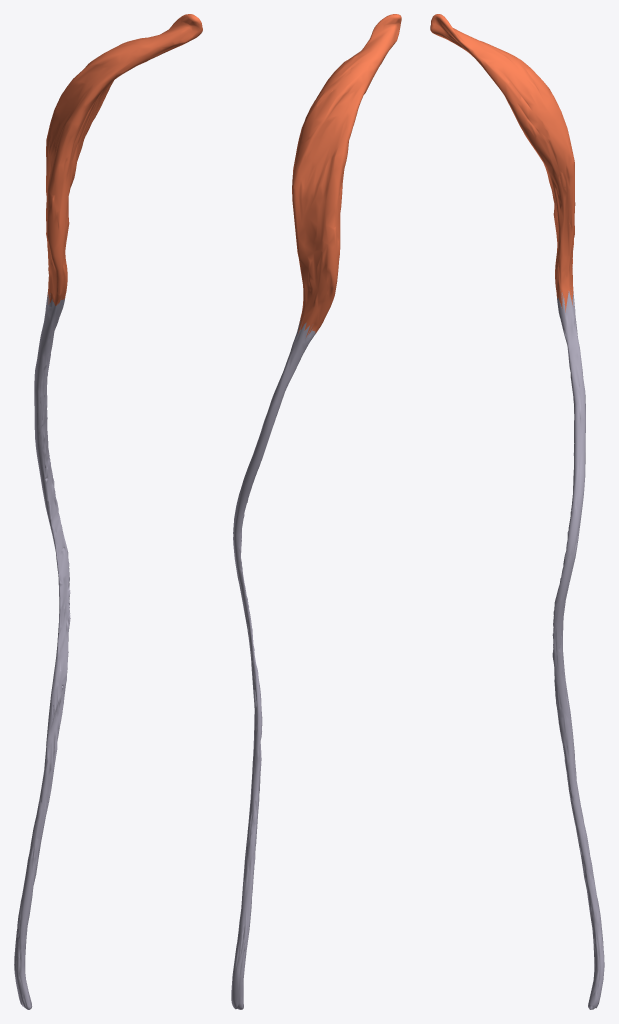
File: Plantaris_muscle.r_Generated_Mesh_From_X3D.294.glb
The picture shows the model from 3 angles, left to right: view 1: azimuth 90°, elevation 25°; view 2: azimuth 150°, elevation 25°; view 3: azimuth 270°, elevation 25°; orthographic projection. The views are drawn at different scales.
Visible parts, largest first — view 1: Plantaris_muscle.r_Generated_Mesh_From_X3D.294; view 2: Plantaris_muscle.r_Generated_Mesh_From_X3D.294; view 3: Plantaris_muscle.r_Generated_Mesh_From_X3D.294.
Part boxes in pixels (x1,y1,x2,y2): Plantaris_muscle.r_Generated_Mesh_From_X3D.294: (14,14,202,1009); Plantaris_muscle.r_Generated_Mesh_From_X3D.294: (231,14,401,1009); Plantaris_muscle.r_Generated_Mesh_From_X3D.294: (430,14,604,1009).
Bounding box in the file's own units: 0.0549 × 0.4823 × 0.0796.
